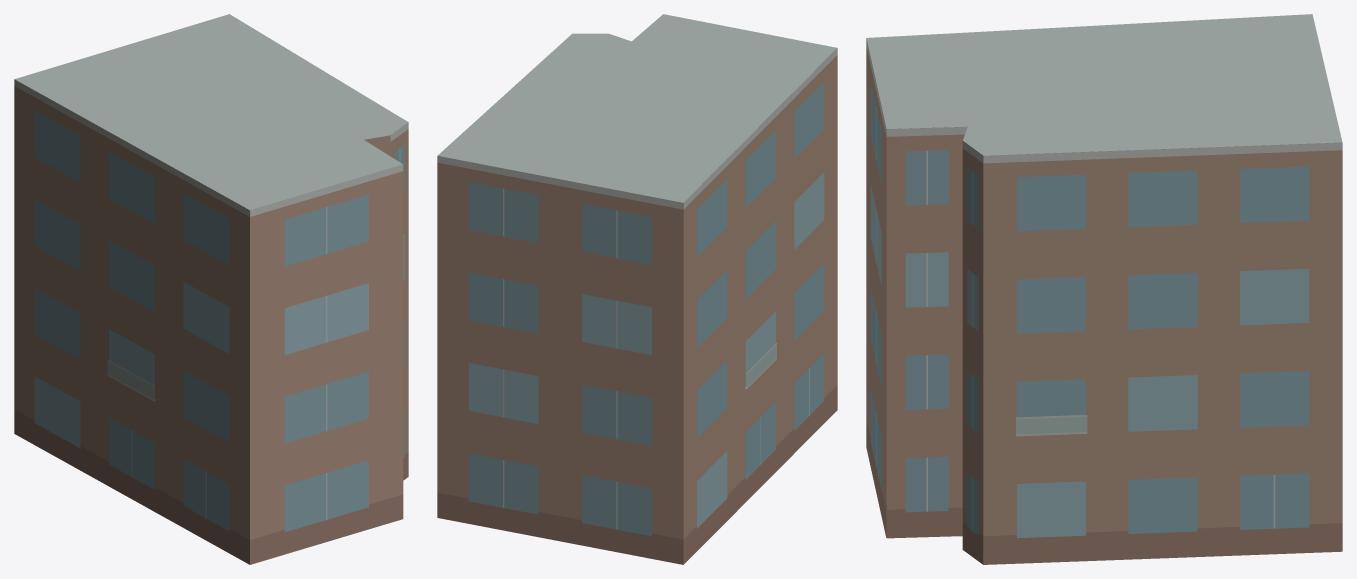
The model's file is survey-upis-32961905.glb.
3 views of the same model, side by side, from view 1: azimuth 30°, elevation 25°; view 2: azimuth 150°, elevation 25°; view 3: azimuth 270°, elevation 25° (orthographic). The views are drawn at different scales.
Parts seen in each view (by area): view 1: survey-upis-32961905.tmp; view 2: survey-upis-32961905.tmp; view 3: survey-upis-32961905.tmp.
Boxes of the visible parts, x1=… form: survey-upis-32961905.tmp: x1=14, y1=14, x2=408, y2=564; survey-upis-32961905.tmp: x1=437, y1=14, x2=837, y2=564; survey-upis-32961905.tmp: x1=866, y1=14, x2=1342, y2=564.
Bounding box in the file's own units: 9.63 × 12.95 × 13.67.
